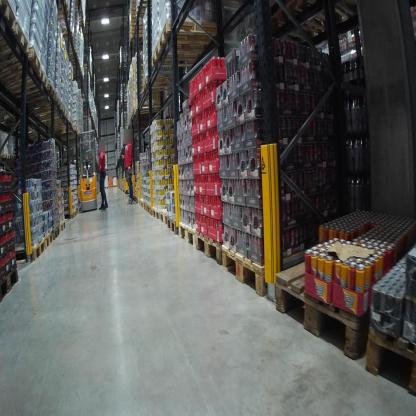pallet: (270, 220, 414, 363), (217, 216, 346, 304), (365, 300, 414, 398), (160, 17, 229, 53), (2, 41, 42, 90), (152, 41, 226, 66), (1, 64, 50, 99), (3, 20, 32, 67), (11, 236, 46, 270), (9, 82, 55, 107), (194, 226, 221, 268), (141, 73, 191, 95), (1, 261, 20, 305), (28, 93, 61, 116), (35, 101, 66, 123), (1, 2, 19, 35), (179, 221, 198, 251), (51, 124, 79, 137), (134, 2, 154, 20), (55, 1, 72, 21), (167, 211, 181, 235), (43, 227, 54, 250), (51, 223, 61, 244), (55, 211, 76, 221), (153, 205, 167, 220), (159, 209, 169, 226), (60, 217, 67, 239), (1, 149, 11, 161), (9, 152, 22, 160), (139, 195, 145, 210), (147, 205, 154, 217), (143, 201, 150, 212)
pallet_truck: (78, 129, 99, 214)
